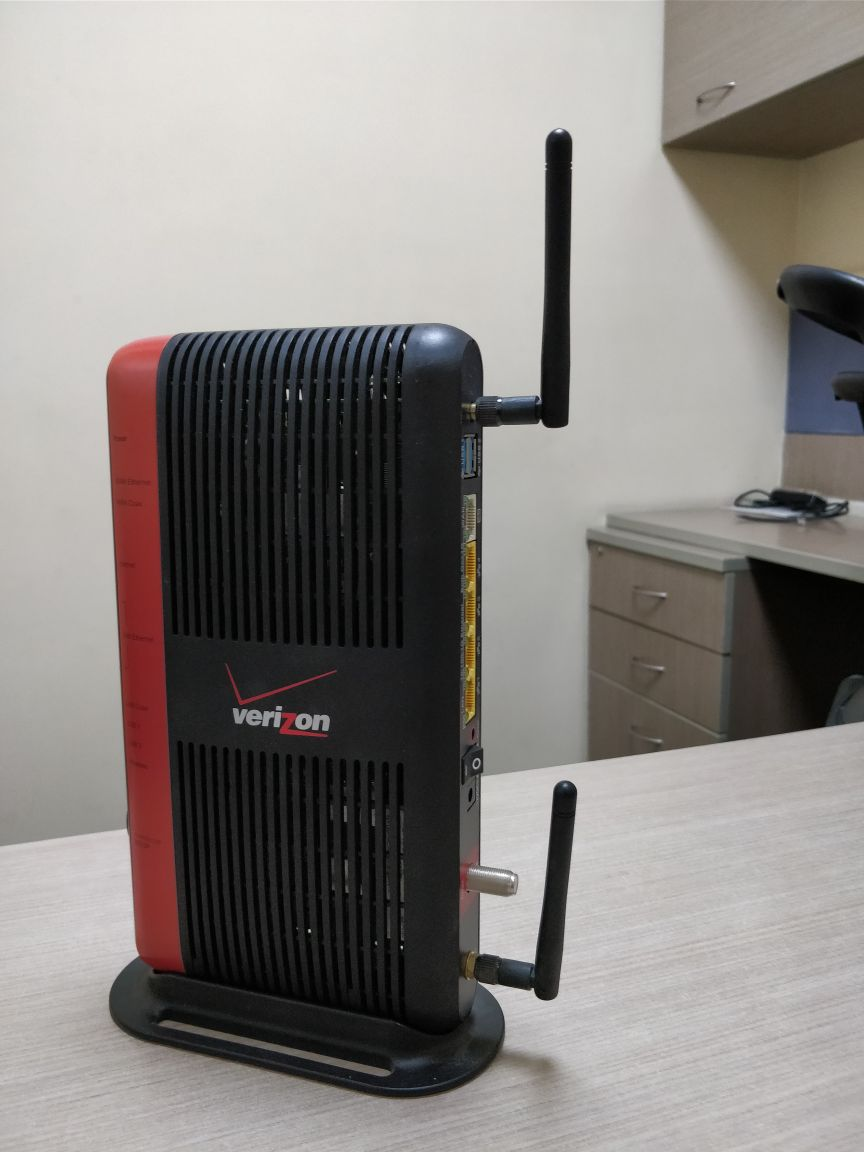Verizon Router: (39, 130, 694, 1150)
